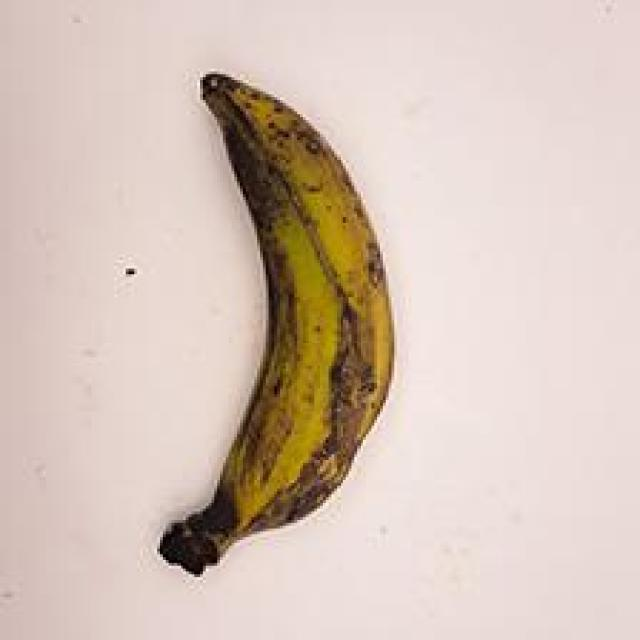Overripe: (134, 51, 435, 591)
